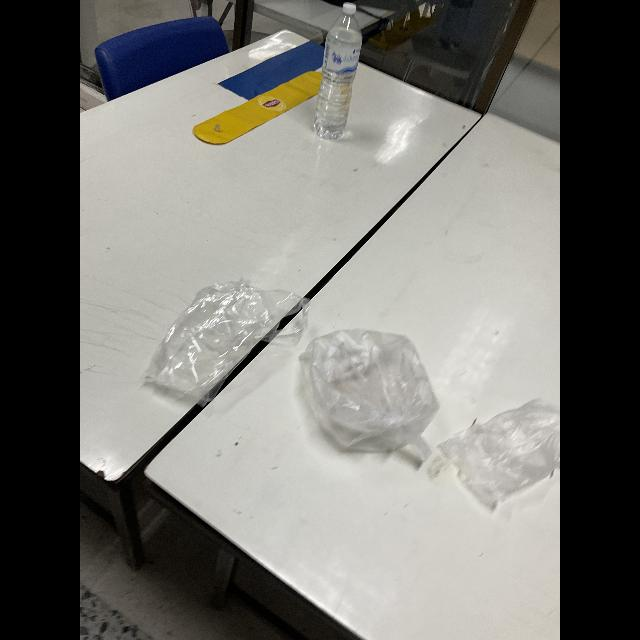plastic_bag: (296, 326, 439, 466), (147, 281, 297, 399), (436, 388, 560, 530)
